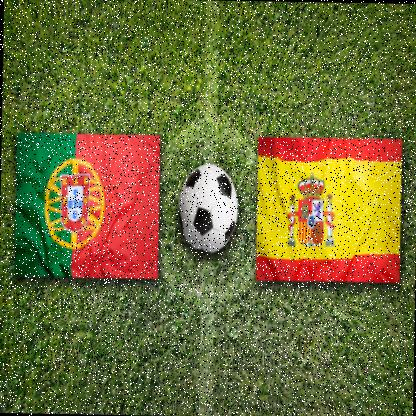es: (255, 135, 405, 285)
pt: (15, 130, 162, 283)
